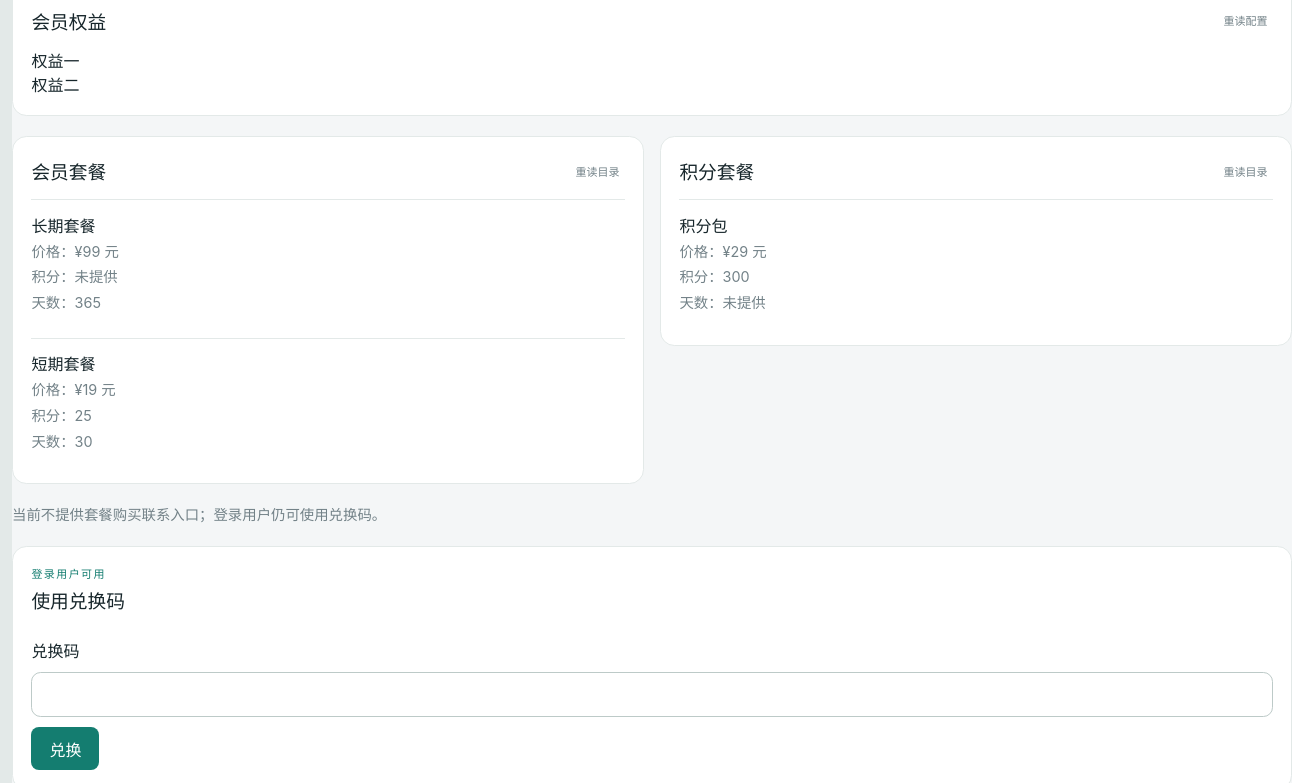
Test: AccountMembershipPanel › treats an ambiguous network result as frozen and allows only readback or explicit abandonment
(page scrolled)
Type "ambiguous-code" into the field labelled "兑换码" at (652, 694), box top-left (31, 672), bottom-right (1273, 717)
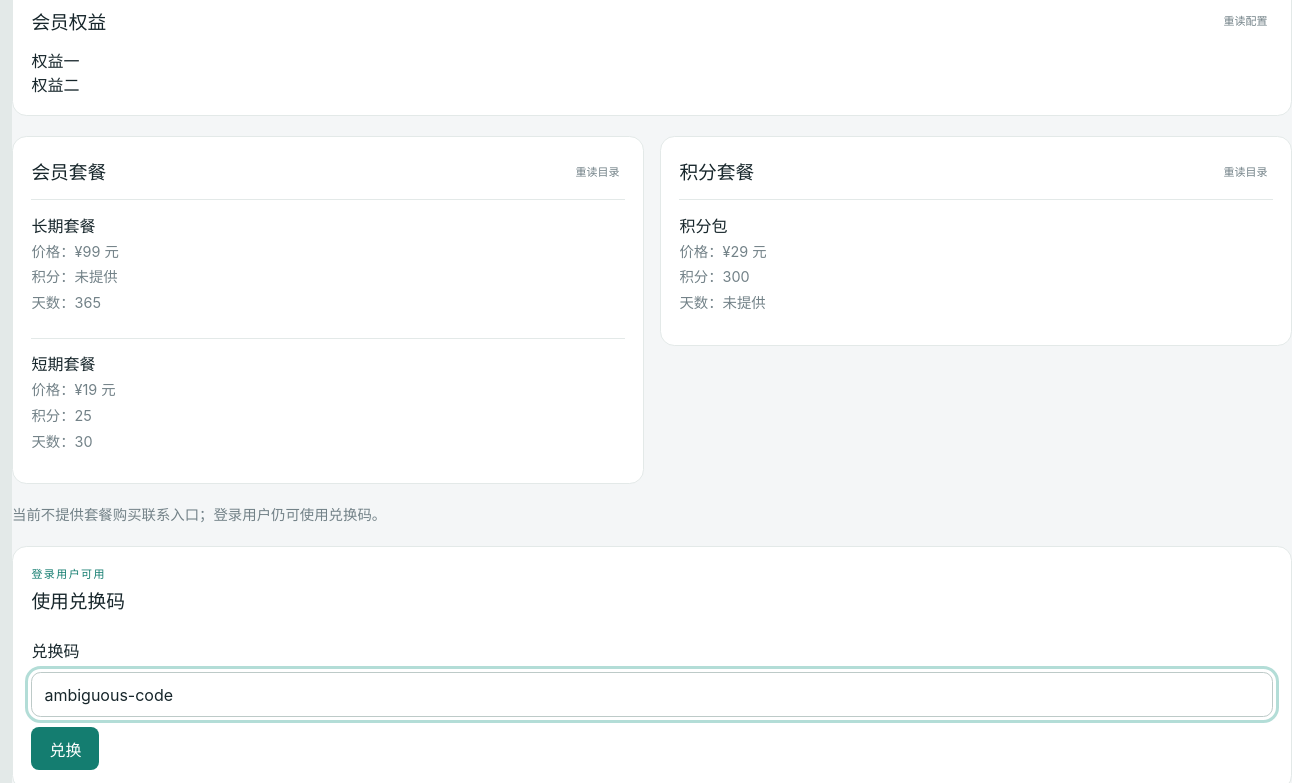
Click the button "兑换" at (65, 749), box top-left (31, 727), bottom-right (99, 770)
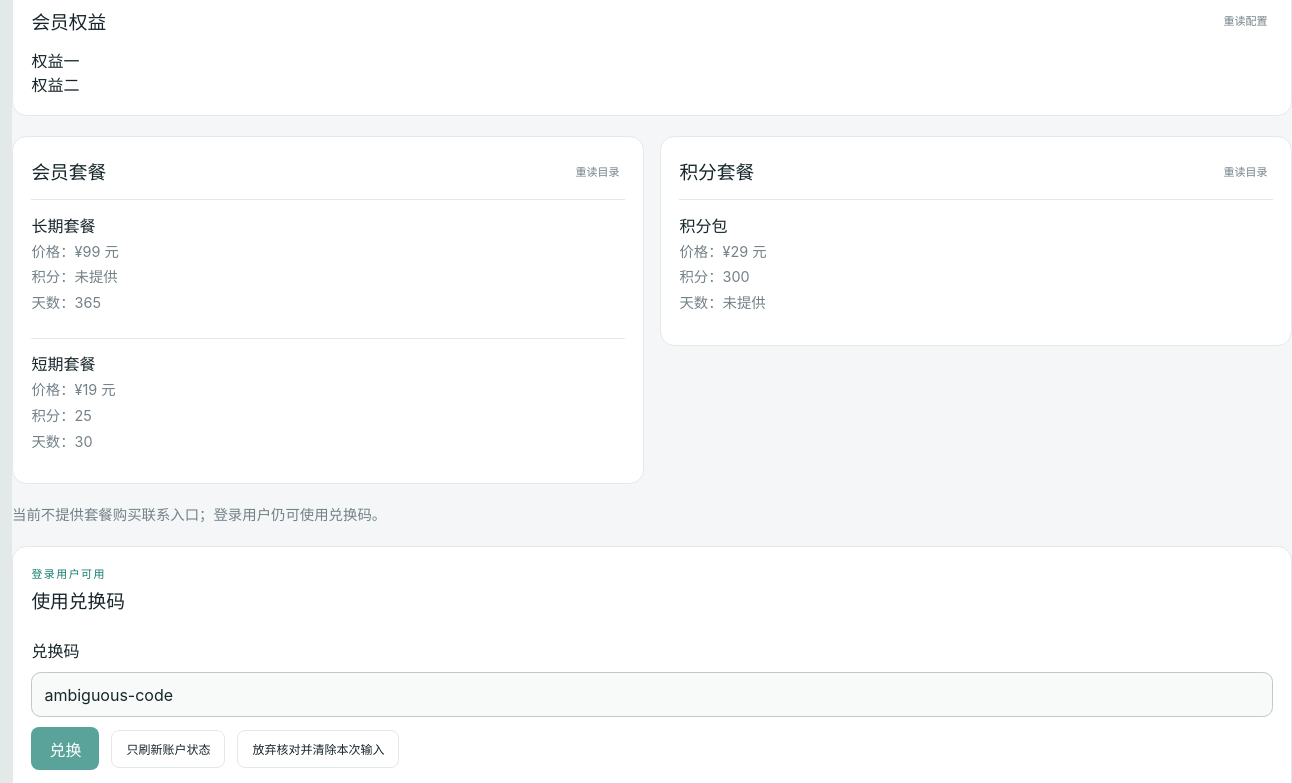
Click the button "只刷新账户状态" at (168, 749), box top-left (111, 730), bottom-right (225, 768)
(page scrolled)
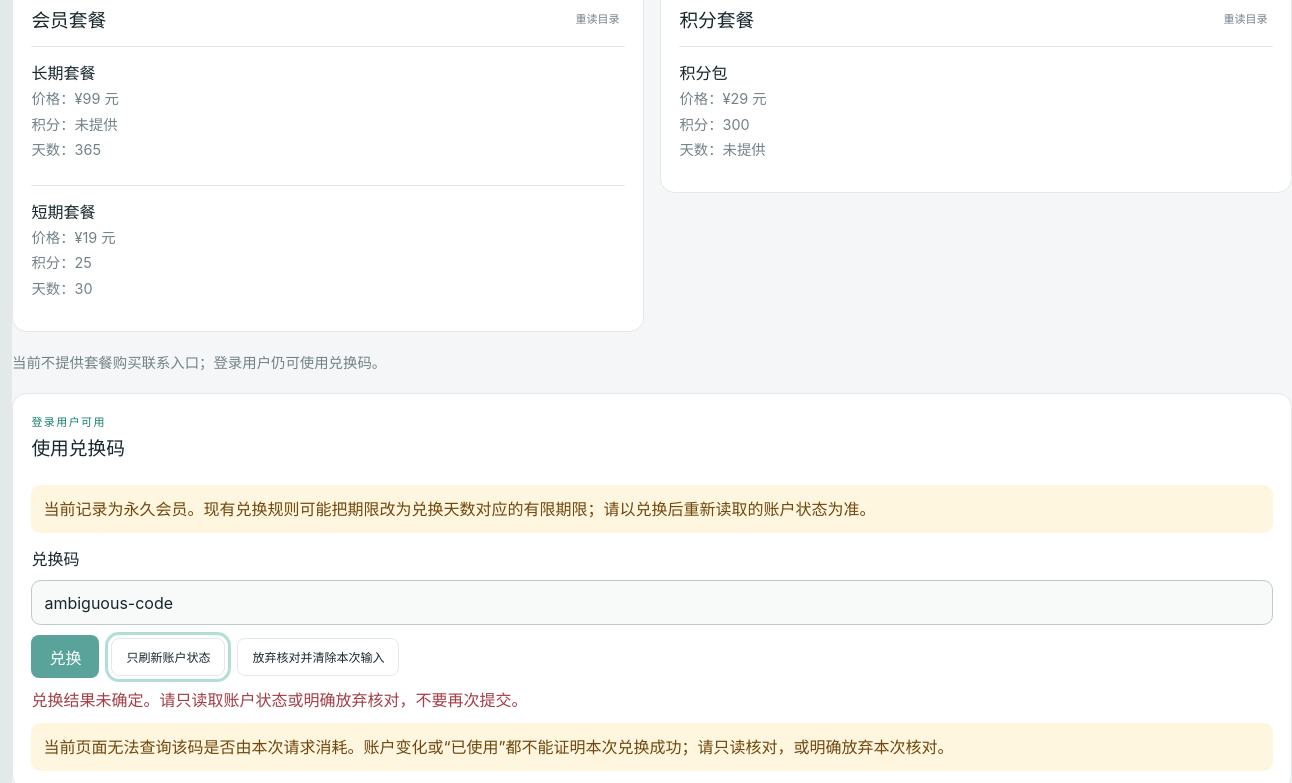
Click the button "放弃核对并清除本次输入" at (318, 657), box top-left (237, 638), bottom-right (399, 676)
(page scrolled)
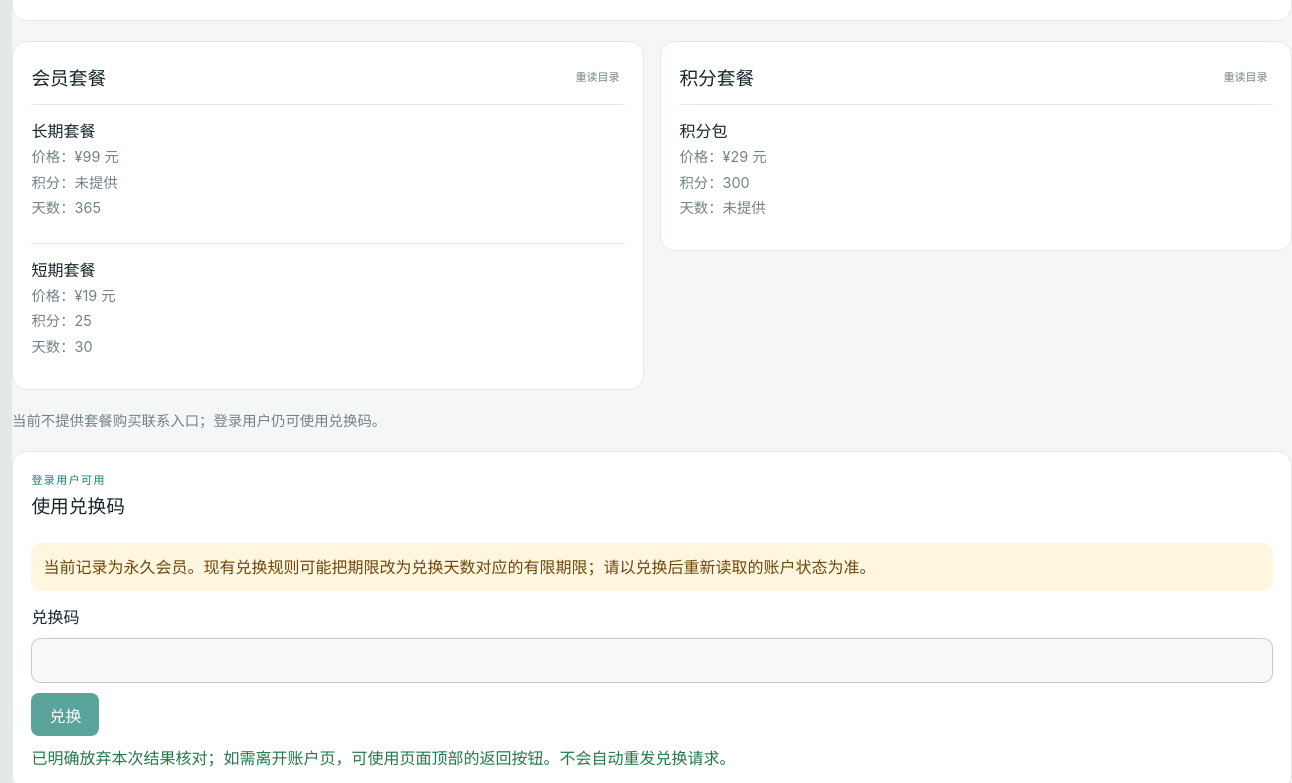
Check: the text "已明确放弃本次结果核对；如需离开账户页，可使用页面顶部的返回按钮。不会自动重发兑换请求。" is shown, box top-left (31, 748), bottom-right (735, 768)
Check: the field labelled "兑换码" is empty, box top-left (31, 638), bottom-right (1273, 683)
